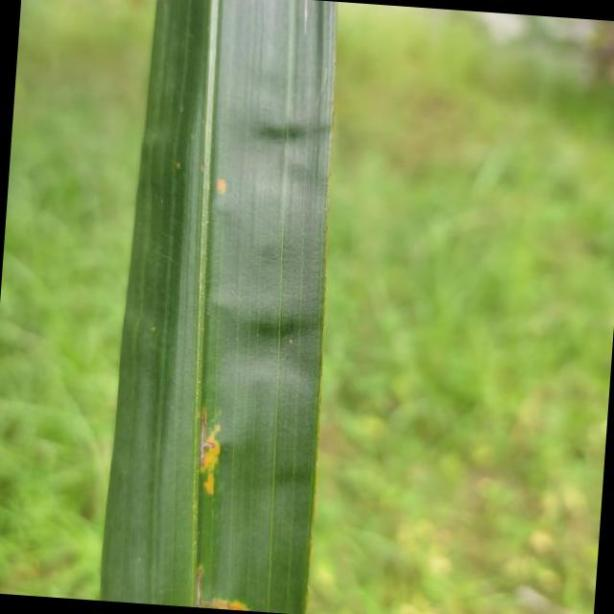Boron: (104, 0, 336, 614)
